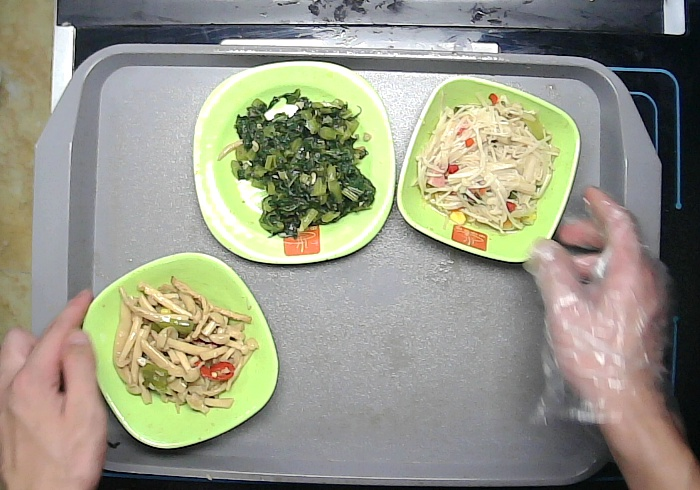SHKJ-Lv_Se_Cai_Die: (80, 251, 279, 451)
SHKJ-Lv_Se_Si_Fang_Cai_Die: (193, 60, 396, 264)
SHKJ-Lv_Se_Xiao_Fang_Die: (395, 76, 581, 266)
